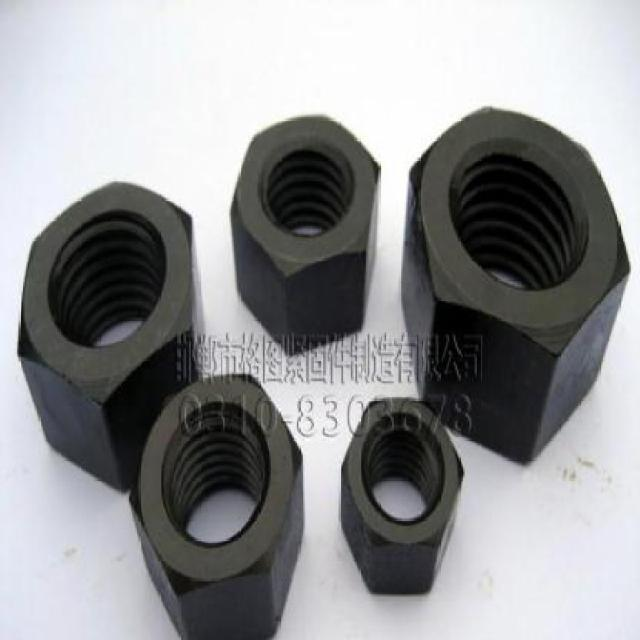Nut: (400, 104, 634, 468), (16, 179, 206, 492), (127, 371, 306, 640), (230, 112, 382, 356), (339, 398, 465, 596)
